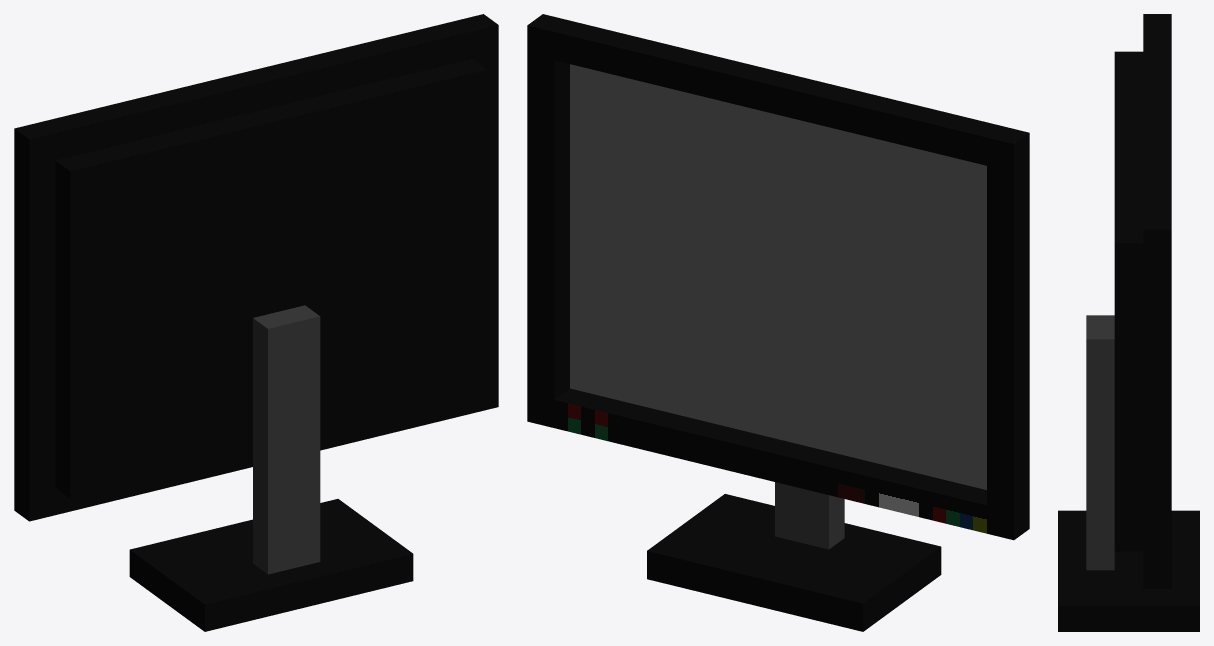
The model's file is monitor.glb.
The picture shows the model from 3 angles, left to right: view 1: azimuth 30°, elevation 25°; view 2: azimuth 150°, elevation 25°; view 3: azimuth 270°, elevation 25°; orthographic projection. The views are drawn at different scales.
Visible parts, largest first — view 1: cube; view 2: cube; view 3: cube.
Boxes of the visible parts, box(x1,y1,x2,y2) form: cube: box(14, 14, 498, 631); cube: box(527, 14, 1029, 631); cube: box(1058, 14, 1199, 631).
Bounding box in the file's own units: 1.12 × 1.13 × 0.3125.
Materials: 1 (1 with a texture image).
